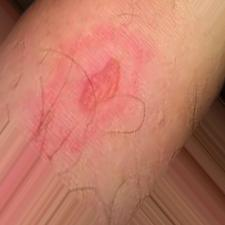Spider: (60, 54, 121, 113)
